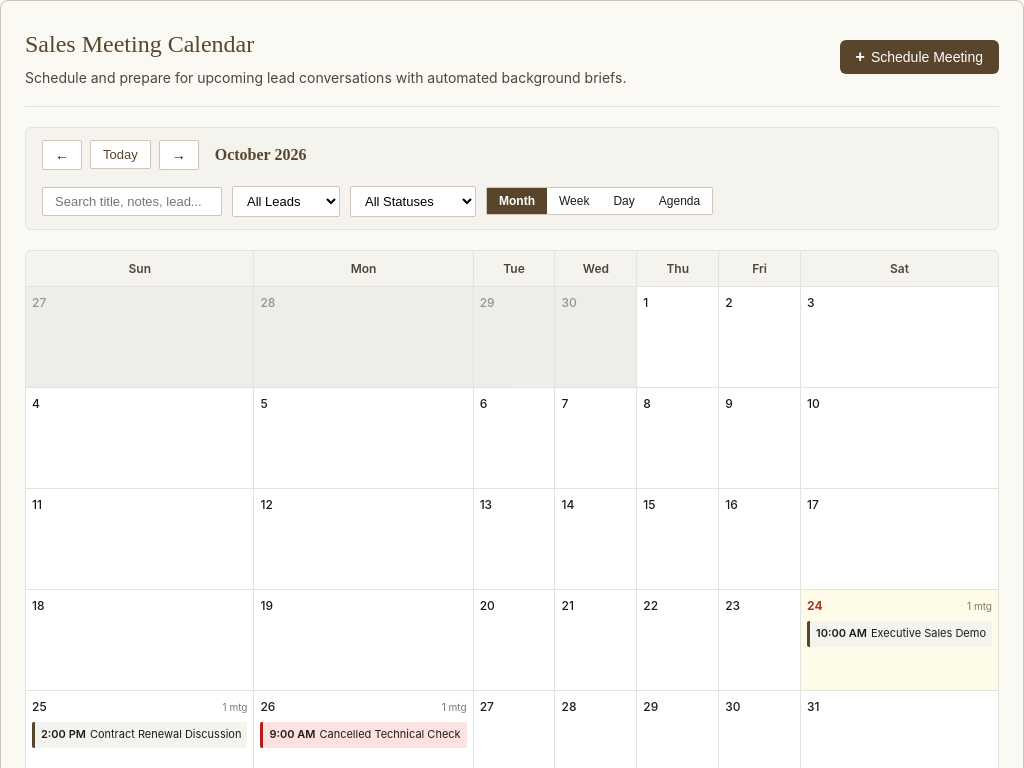
it: CalendarView Component (Feature 005 - T026) › CalendarView UI Component Rendering › switches between view modes (Month, Week, Day, Agenda)
Switch to Agenda
Step 1. Click the button with test id "view-agenda" → (680,201), box [647,188,712,214]
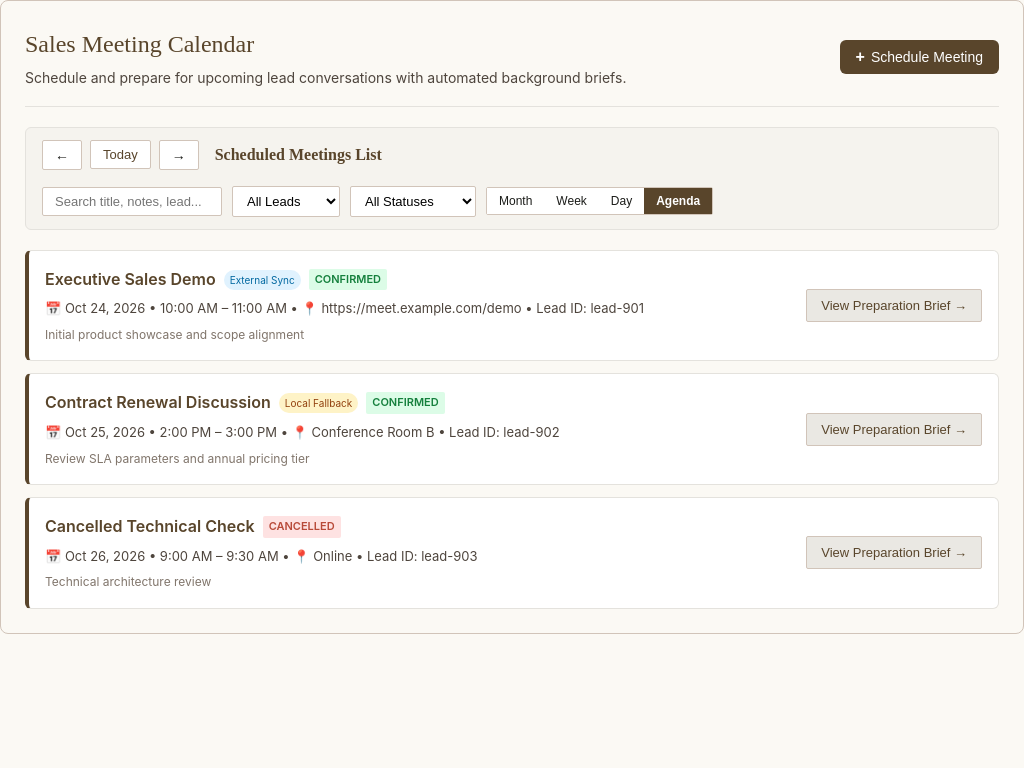
Expected: the text "Executive Sales Demo" is shown, [45,267,216,292]
Expected: the element with test id "agenda-view-container" is shown, [25,250,999,608]
Switch to Day
Step 2. Click the button with test id "view-day" → (621,201), box [599,188,644,214]
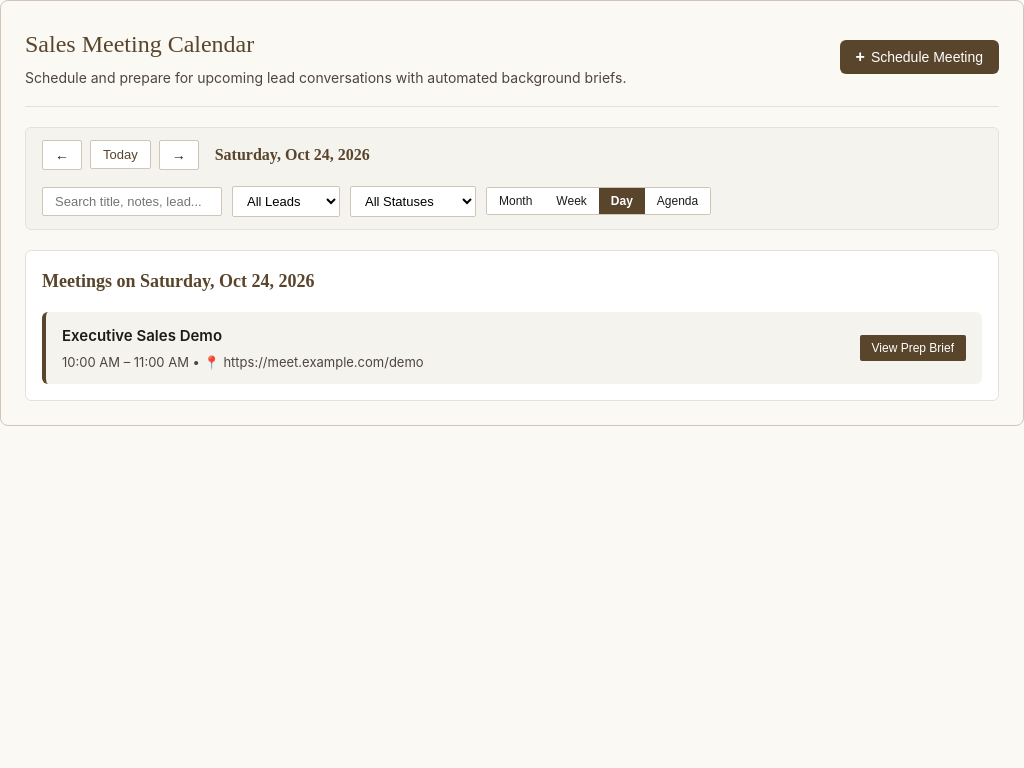
Expected: the element with test id "day-view-container" is shown, [25,250,999,401]
Switch to Week
Step 3. Click the button with test id "view-week" → (572,201), box [544,188,599,214]
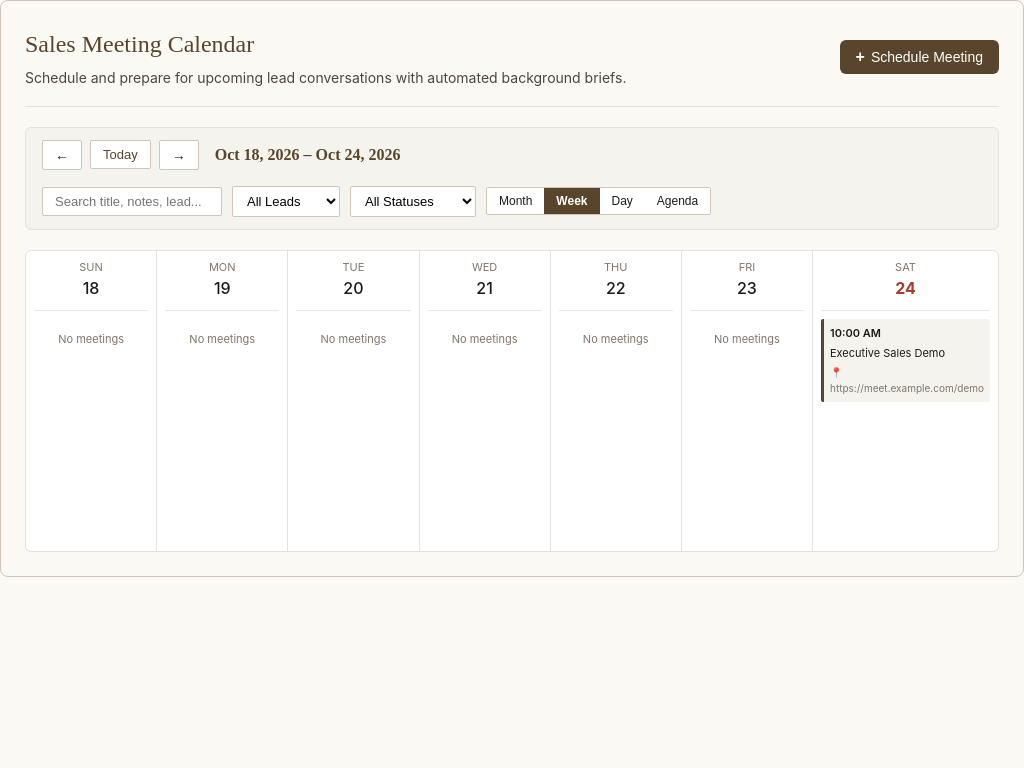
Expected: the element with test id "week-view-grid" is shown, [25,250,999,552]
